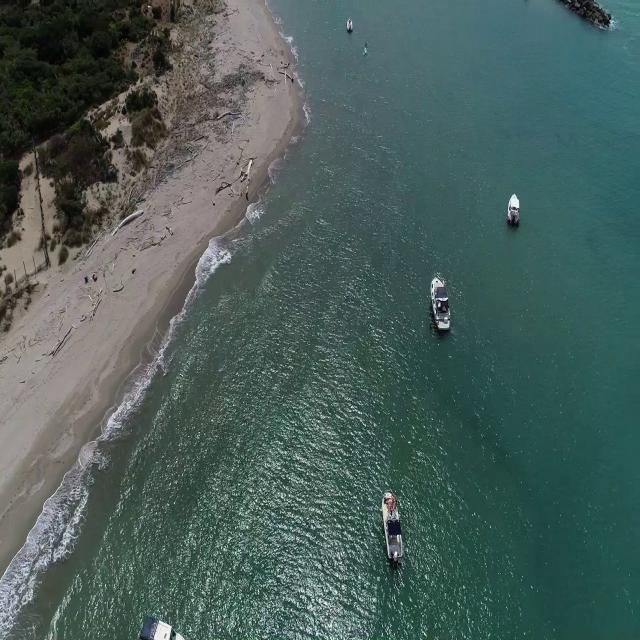boat: (380, 486, 403, 566), (427, 271, 450, 334), (143, 615, 188, 640), (504, 194, 520, 229), (342, 17, 351, 33)
person: (362, 39, 368, 51)
surfboard: (359, 47, 366, 59)
wood: (210, 158, 252, 204)
